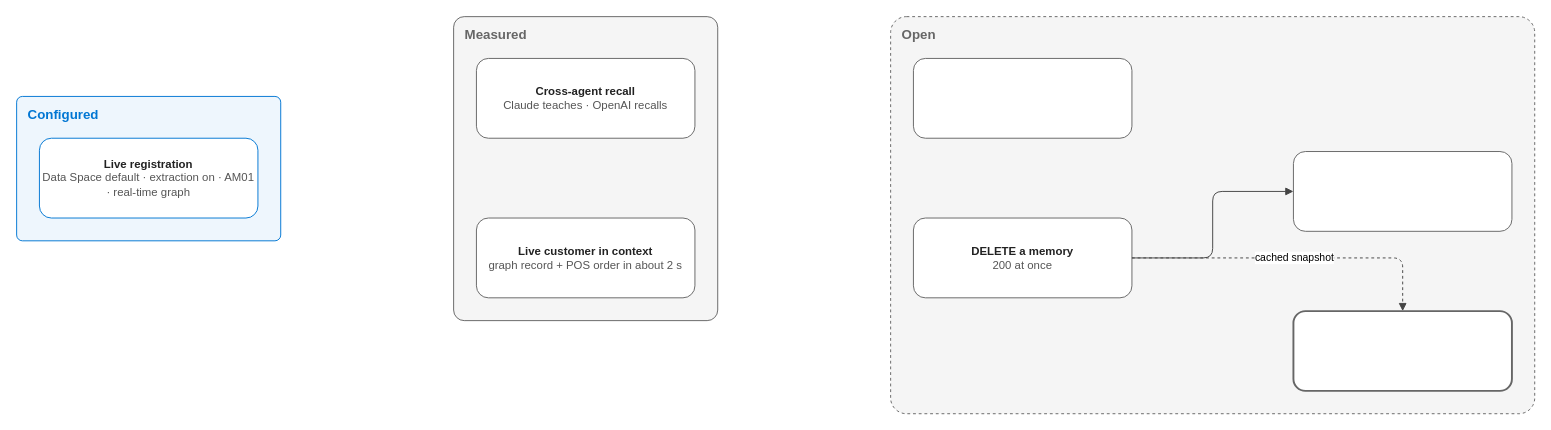
The diagram is 1551 pixels wide and 430 high, and some of its shapes have lost their labels. The centre of each missing label's shape, as x and y in pixels:
GetContext still serves it after 44 min · known limit: the point at 1402,350
Memory API list drops it in 1 s: the point at 1402,191
Non-default Data Spaces creates fail · waiting for fix: the point at 1022,97
